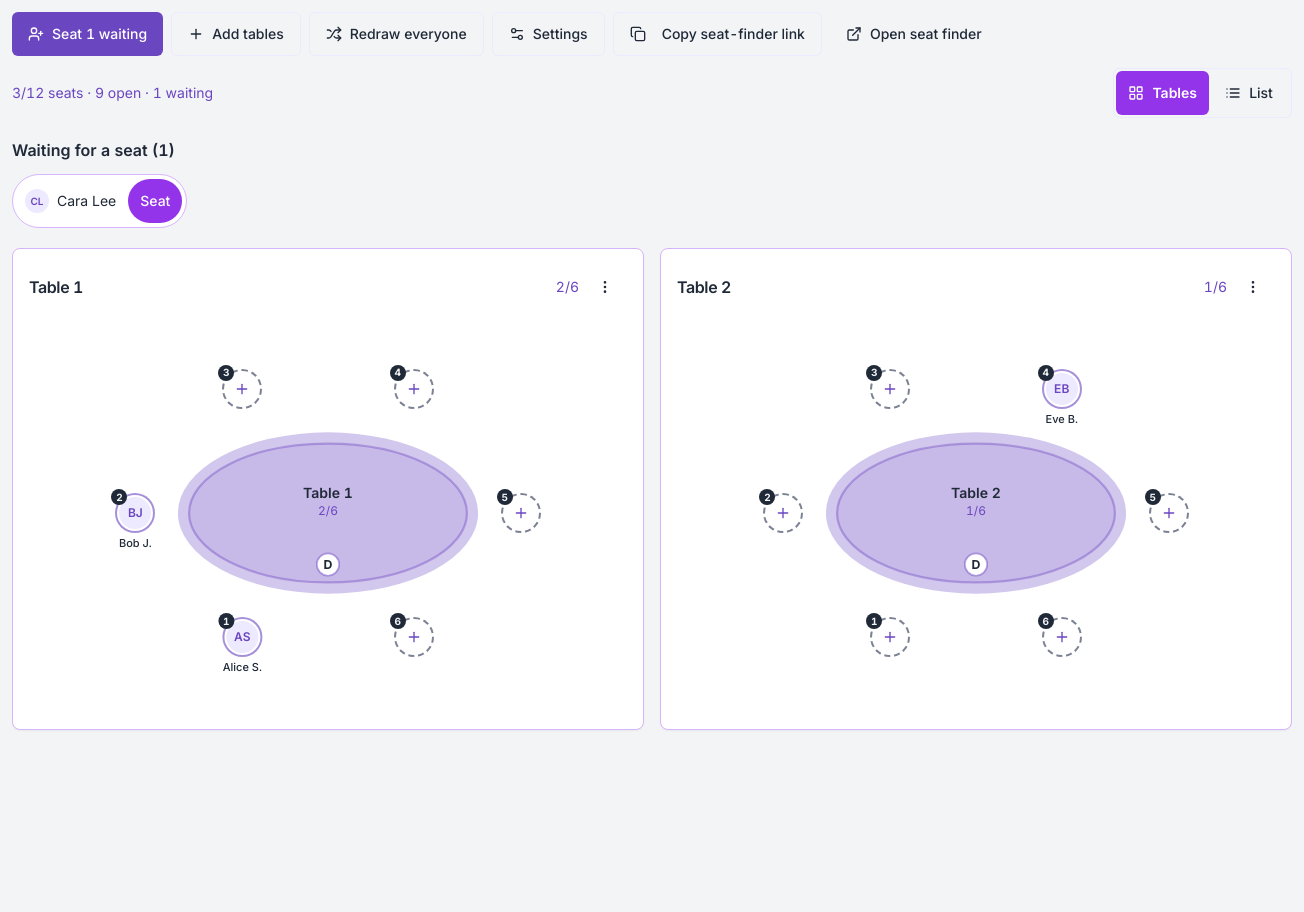
Test: SeatingPanel: moving players by hand › says to pick a player first when an empty seat is tapped with nobody picked up
What coordinates should you click on to do the following:
click the button named "Seat 3, empty"
I would click on:
 (242, 398)
Its box is [220, 369, 264, 427].
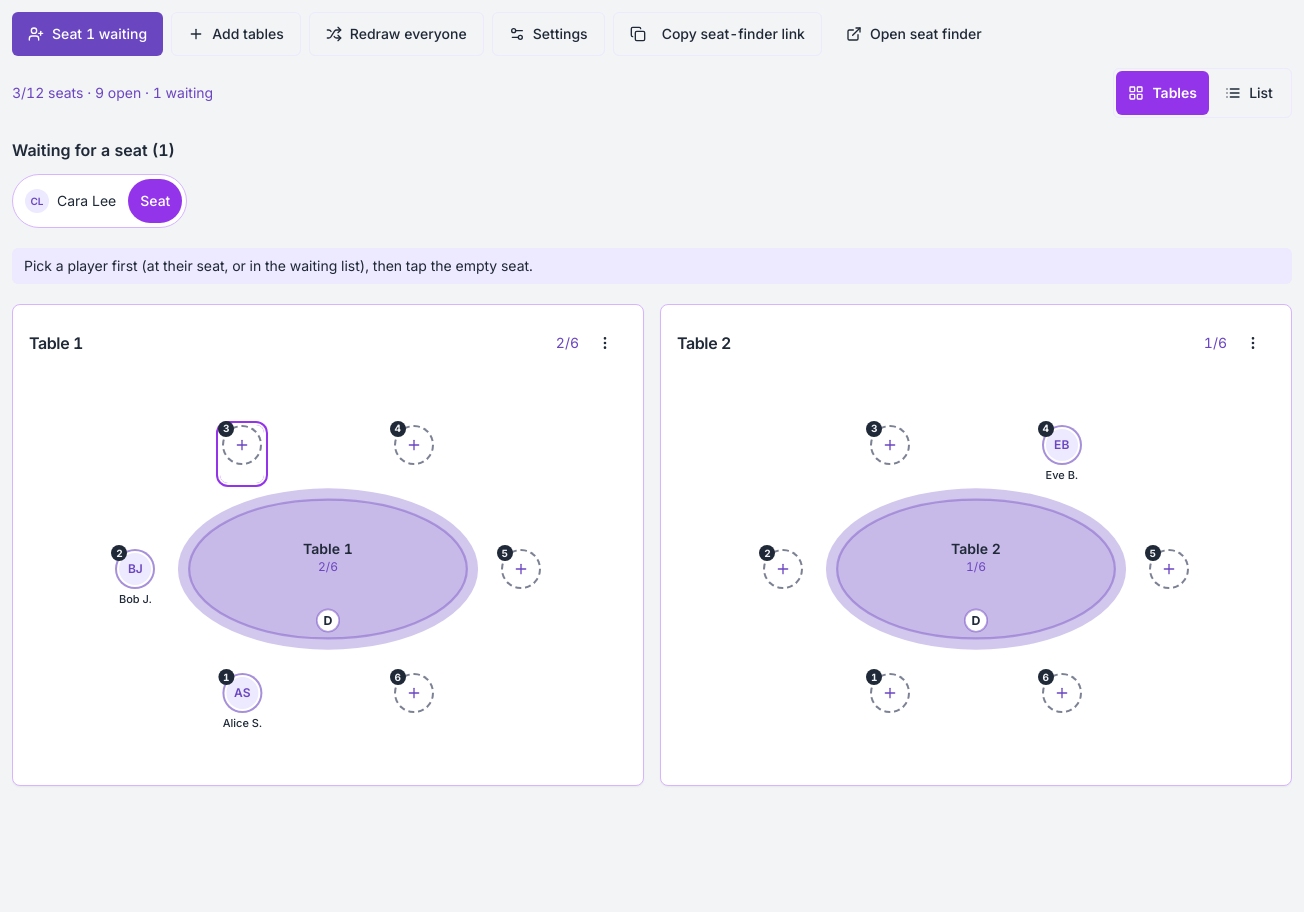
Now the text "Pick a player first (at their seat, or in the waiting list), then tap the empty seat." is shown, box [24, 257, 533, 274]
